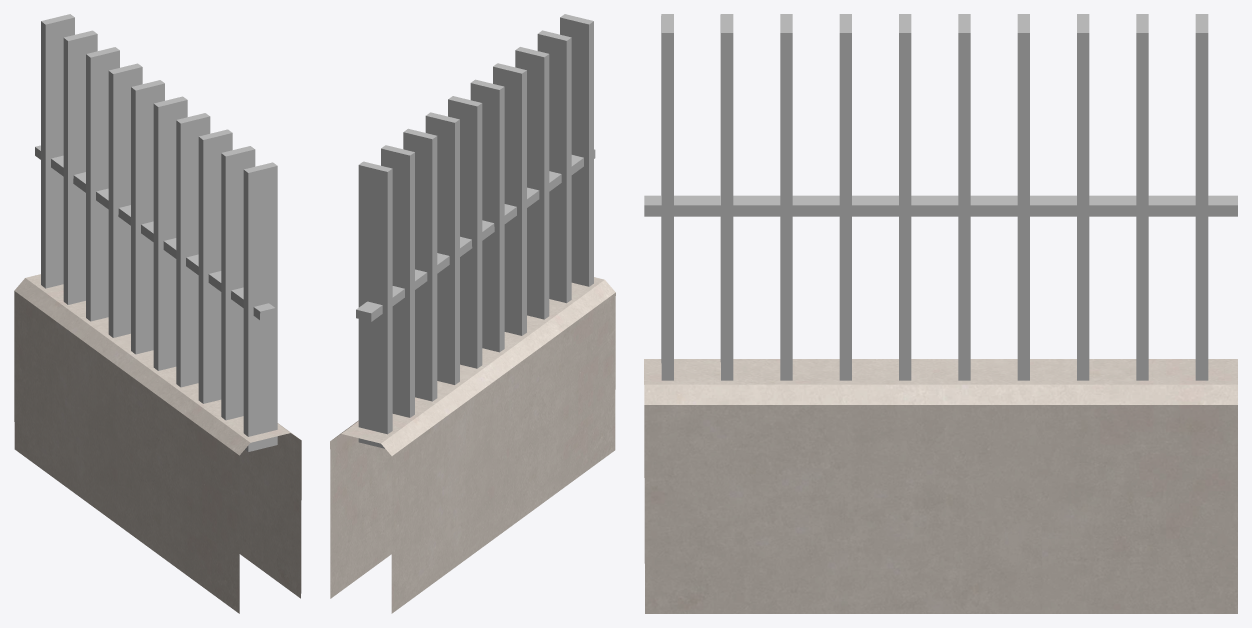
File: SM_Park_Fence_04.fbx
The picture shows the model from 3 angles, left to right: view 1: azimuth 30°, elevation 25°; view 2: azimuth 150°, elevation 25°; view 3: azimuth 270°, elevation 25°; orthographic projection. The views are drawn at different scales.
Visible parts, largest first — view 1: SM_Park_Fence_04_LOD0; view 2: SM_Park_Fence_04_LOD0; view 3: SM_Park_Fence_04_LOD0.
Part boxes in pixels (box(x1,y1,x2,y2)): SM_Park_Fence_04_LOD0: box(14, 14, 301, 613); SM_Park_Fence_04_LOD0: box(330, 14, 615, 613); SM_Park_Fence_04_LOD0: box(644, 14, 1237, 613).
Size of what is drawn, in the model's own units: 0.3186 by 2.12 by 2.
